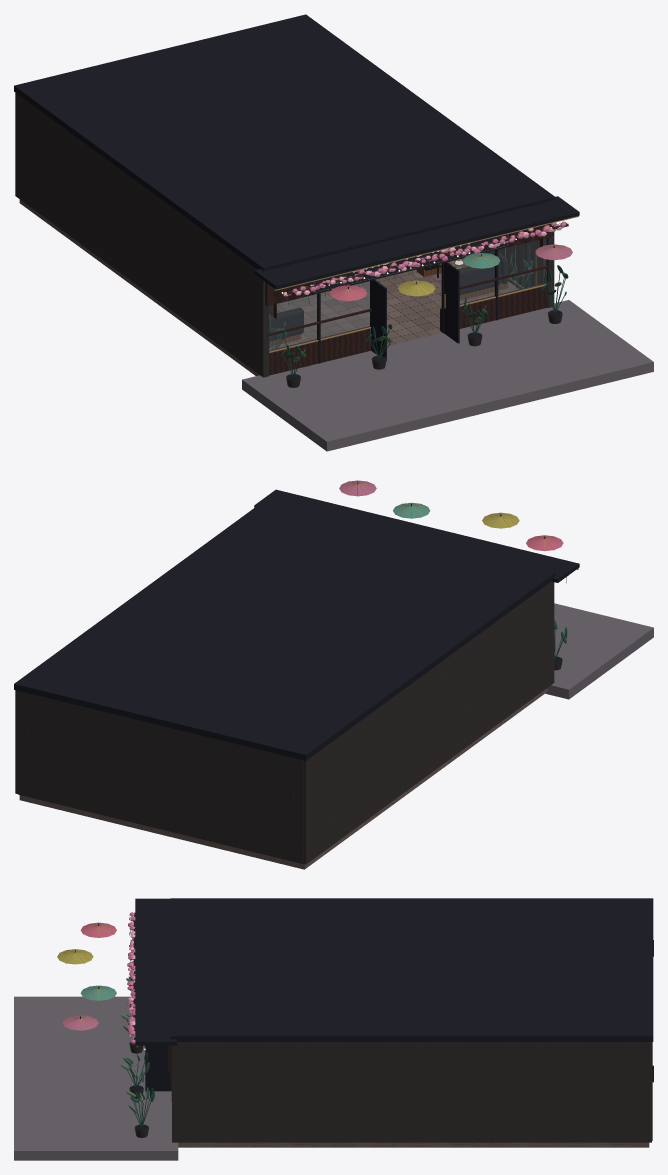
The model's file is magpie-bar.glb.
The picture shows the model from 3 angles, top to bottom: view 1: azimuth 30°, elevation 25°; view 2: azimuth 150°, elevation 25°; view 3: azimuth 270°, elevation 25°; orthographic projection. The views are drawn at different scales.
Visible parts, largest first — view 1: Roof · Blackened steel, Floor · Exterior paving, Walls · Charcoal plaster, Facade · Blackened steel, Floor · Ceramic floor tile, Facade · Facade glazing, Facade · Dark timber panels, Decor · Dark foliage, Seating · Black stitched leather, Facade · Illuminated facade lettering, Walls · Dark timber panels, Decor · Blossom petals (+3 smaller); view 2: Roof · Blackened steel, Walls · Charcoal plaster, Floor · Exterior paving, Facade · Blackened steel, Floor · Ceramic floor tile; view 3: Roof · Blackened steel, Walls · Charcoal plaster, Floor · Exterior paving, Facade · Blackened steel, Floor · Ceramic floor tile, Decor · Dark foliage, Decor · Blossom petals, Decor · Umbrella 4.2, Decor · Umbrella -4.2, Decor · Umbrella 1.5, Decor · Umbrella -1.8, Decor · Aged champagne brass.
Boxes of the visible parts, bbox=[...] form: Roof · Blackened steel: bbox=[14, 14, 555, 271]; Floor · Exterior paving: bbox=[242, 300, 653, 451]; Walls · Charcoal plaster: bbox=[15, 93, 554, 377]; Facade · Blackened steel: bbox=[254, 196, 579, 363]; Floor · Ceramic floor tile: bbox=[19, 199, 518, 375]; Facade · Facade glazing: bbox=[269, 238, 546, 350]; Facade · Dark timber panels: bbox=[265, 223, 554, 375]; Decor · Dark foliage: bbox=[269, 231, 568, 376]; Seating · Black stitched leather: bbox=[269, 251, 507, 341]; Facade · Illuminated facade lettering: bbox=[313, 234, 508, 293]; Walls · Dark timber panels: bbox=[269, 238, 545, 318]; Decor · Blossom petals: bbox=[288, 221, 566, 295]; Roof · Blackened steel: bbox=[14, 501, 555, 760]; Walls · Charcoal plaster: bbox=[15, 581, 554, 864]; Floor · Exterior paving: bbox=[545, 603, 653, 699]; Facade · Blackened steel: bbox=[254, 489, 579, 582]; Floor · Ceramic floor tile: bbox=[19, 688, 547, 869]; Roof · Blackened steel: bbox=[170, 898, 653, 1041]; Walls · Charcoal plaster: bbox=[172, 1042, 652, 1142]; Floor · Exterior paving: bbox=[14, 996, 178, 1160]; Facade · Blackened steel: bbox=[135, 898, 176, 1091]; Floor · Ceramic floor tile: bbox=[178, 1142, 649, 1147]; Decor · Dark foliage: bbox=[125, 930, 154, 1127]; Decor · Blossom petals: bbox=[127, 912, 135, 1043]; Decor · Umbrella 4.2: bbox=[62, 1015, 98, 1030]; Decor · Umbrella -4.2: bbox=[81, 922, 116, 937]; Decor · Umbrella 1.5: bbox=[81, 985, 116, 1000]; Decor · Umbrella -1.8: bbox=[57, 949, 93, 964]; Decor · Aged champagne brass: bbox=[58, 922, 116, 1030].
Bounding box in the file's own units: 14 × 4.9 × 24.52.
Materials: 31 (8 with a texture image).
